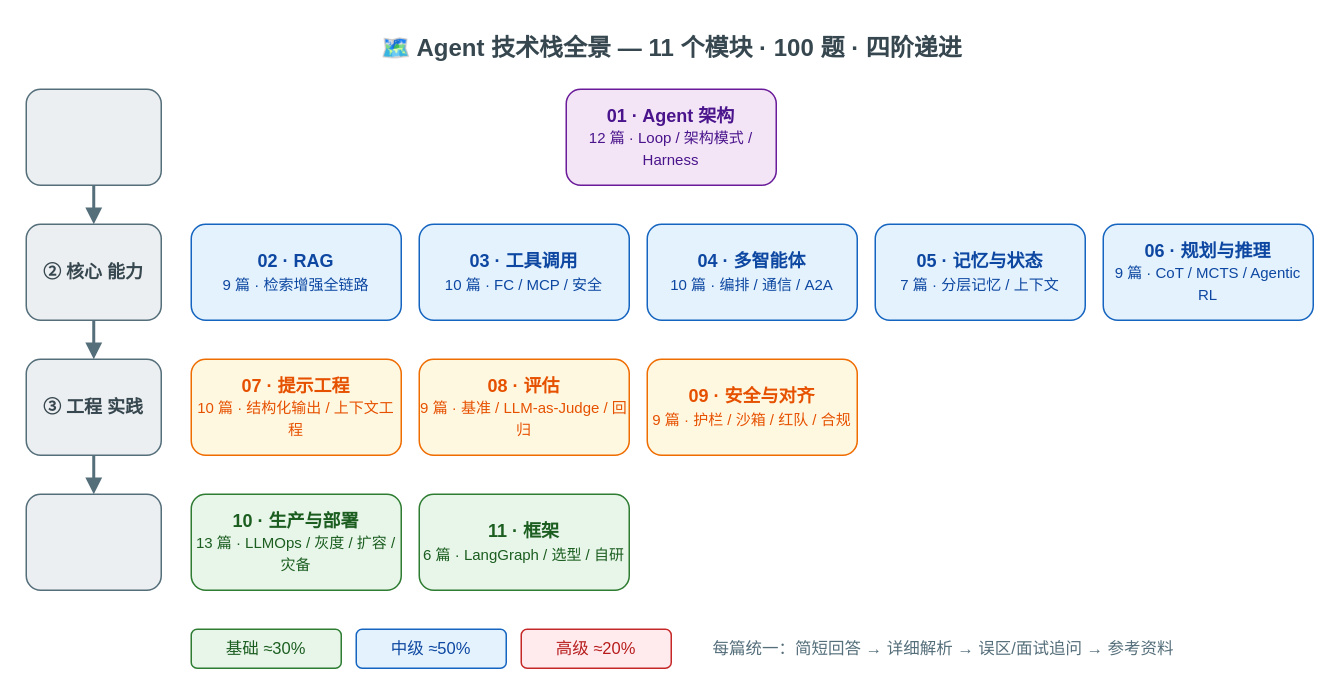
Image size: 1343x695. Some labels were removed from this diagram. Each missing label, with the centre of its shape:
① 入门 基础: point 93,136
④ 生产 生态: point 93,541
